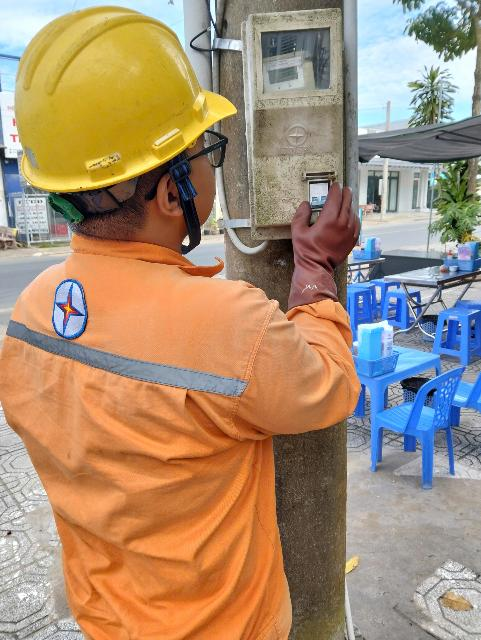gloves: (269, 183, 385, 305)
helmet: (0, 2, 272, 205)
